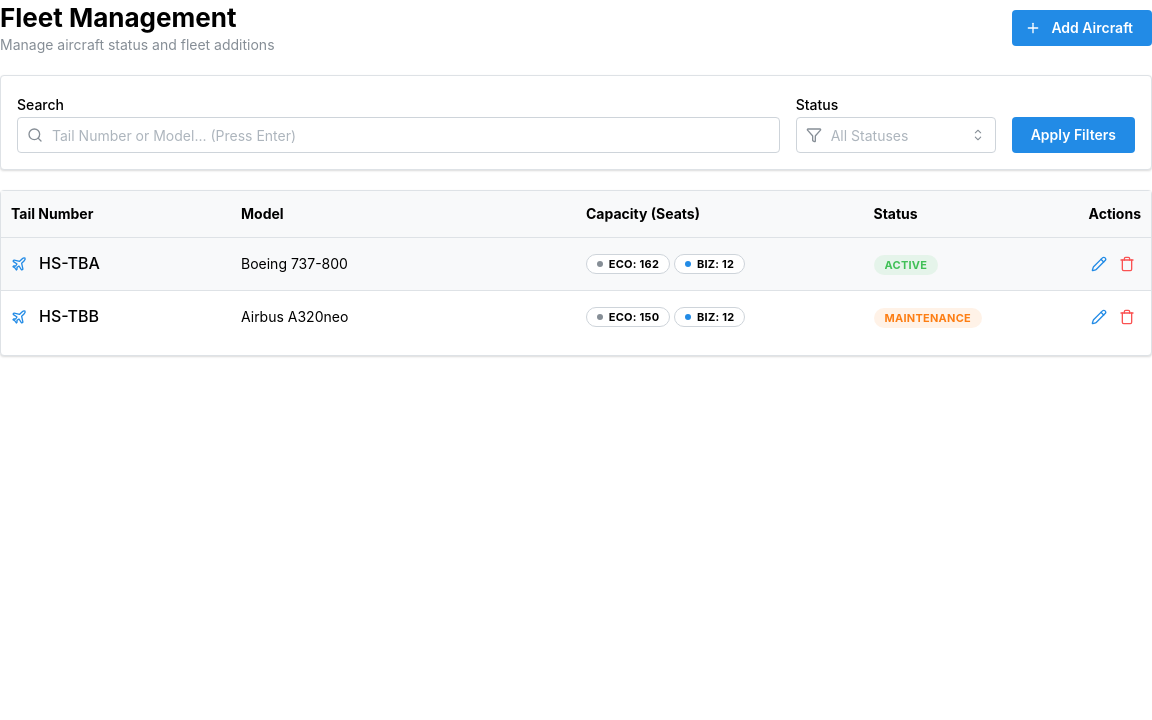
Scenario: AircraftManagement Component › opens delete confirmation modal when delete button is clicked
Click the button named "Delete" in the row of "HS-TBA". click: (1127, 264)
box: [1113, 250, 1141, 278]
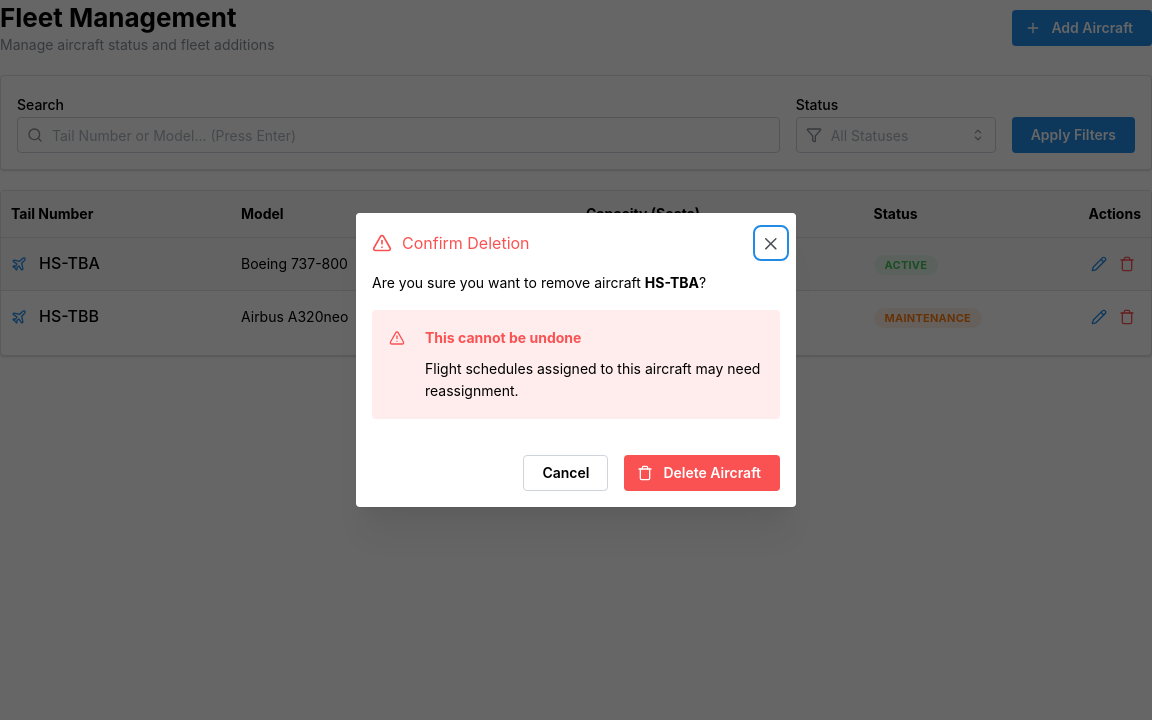
Expected: the text "Confirm Deletion" is shown, [372, 233, 530, 253]
Expected: the text "Are you sure you want to remove aircraft HS-TBA?" is shown, [372, 274, 706, 291]
Expected: the text "HS-TBA" is shown, [645, 274, 699, 291]
